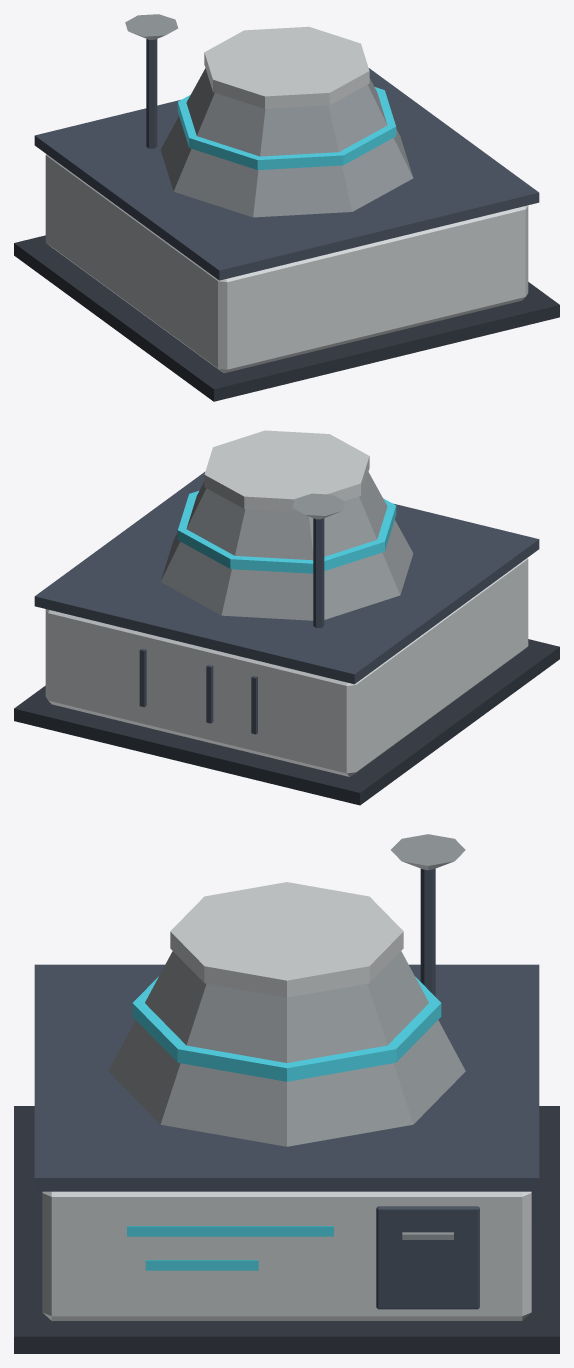
The model's file is lab.obj.
The picture shows the model from 3 angles, top to bottom: view 1: azimuth 30°, elevation 25°; view 2: azimuth 150°, elevation 25°; view 3: azimuth 270°, elevation 25°; orthographic projection. The views are drawn at different scales.
Visible parts, largest first — view 1: body; view 2: body; view 3: body.
Part boxes in pixels (x1,y1,x2,y2): body: (14, 14, 559, 401); body: (14, 430, 559, 805); body: (14, 834, 559, 1353).
Bounding box in the file's own units: 2.9 × 1.95 × 2.9.
